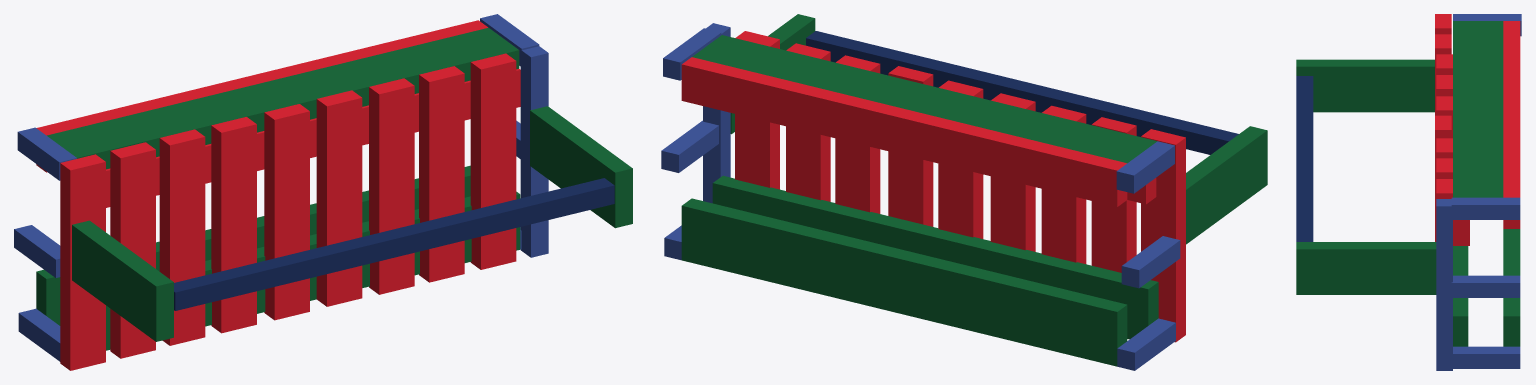
The model's file is tinker.obj.
The picture shows the model from 3 angles, left to right: view 1: azimuth 30°, elevation 25°; view 2: azimuth 150°, elevation 25°; view 3: azimuth 270°, elevation 25°; orthographic projection. The views are drawn at different scales.
Parts seen in each view (by area): view 1: group_0_15277357, group_0_1206582, group_0_1650274, group_0_3888547; view 2: group_0_1206582, group_0_15277357, group_0_3888547, group_0_1650274; view 3: group_0_1206582, group_0_3888547, group_0_15277357, group_0_1650274.
Boxes of the visible parts, left/top/right/bottom form: group_0_15277357: left=36, top=20, right=520, bottom=370; group_0_1206582: left=36, top=27, right=632, bottom=350; group_0_1650274: left=174, top=178, right=614, bottom=310; group_0_3888547: left=14, top=14, right=548, bottom=361; group_0_1206582: left=681, top=14, right=1267, bottom=366; group_0_15277357: left=681, top=31, right=1185, bottom=342; group_0_3888547: left=661, top=23, right=1180, bottom=370; group_0_1650274: left=806, top=31, right=1238, bottom=154; group_0_1206582: left=1296, top=21, right=1520, bottom=346; group_0_3888547: left=1436, top=14, right=1521, bottom=370; group_0_15277357: left=1435, top=14, right=1520, bottom=245; group_0_1650274: left=1296, top=76, right=1313, bottom=241.
Bounding box in the file's own units: 329 × 131 × 161.
